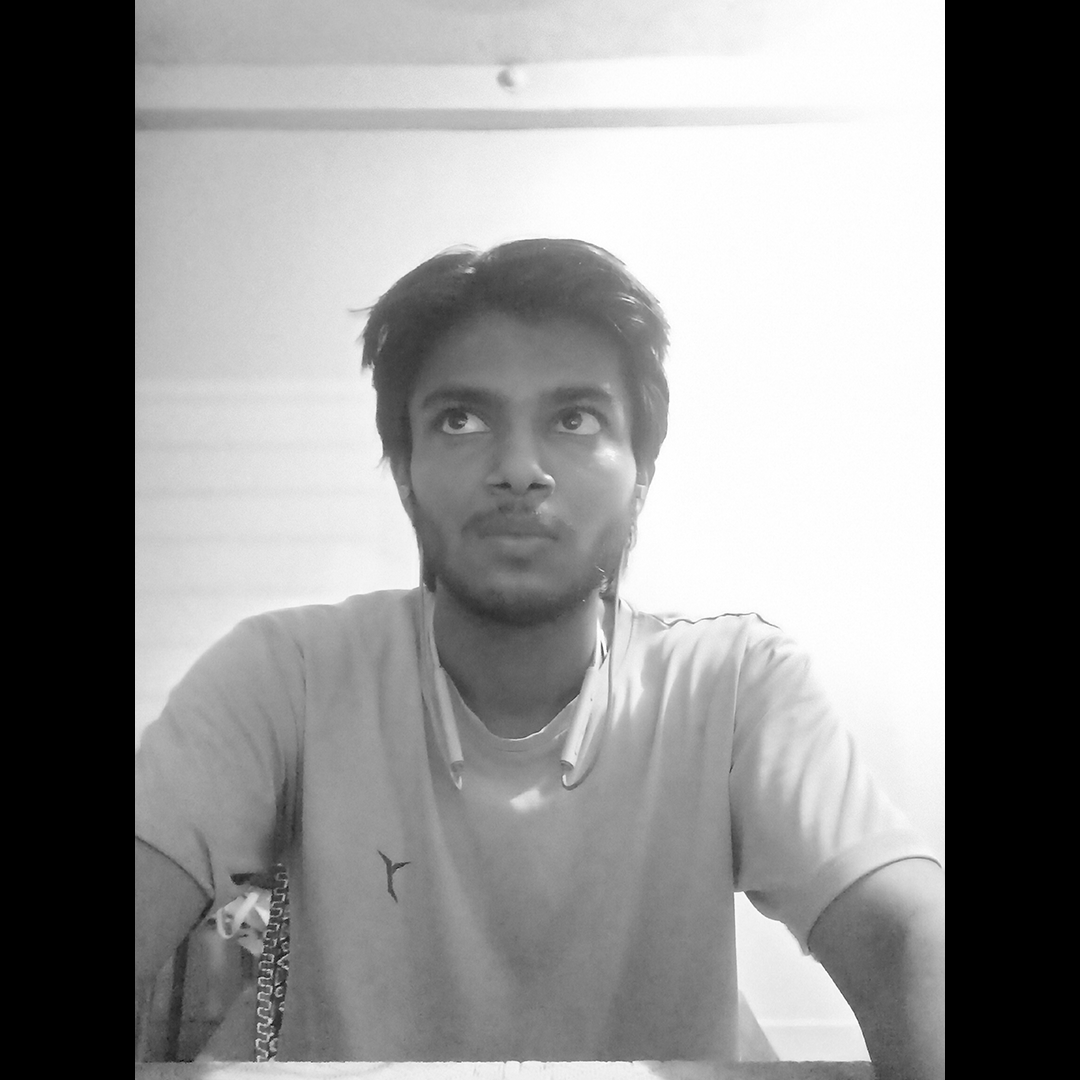distracted: (164, 81, 837, 913)
